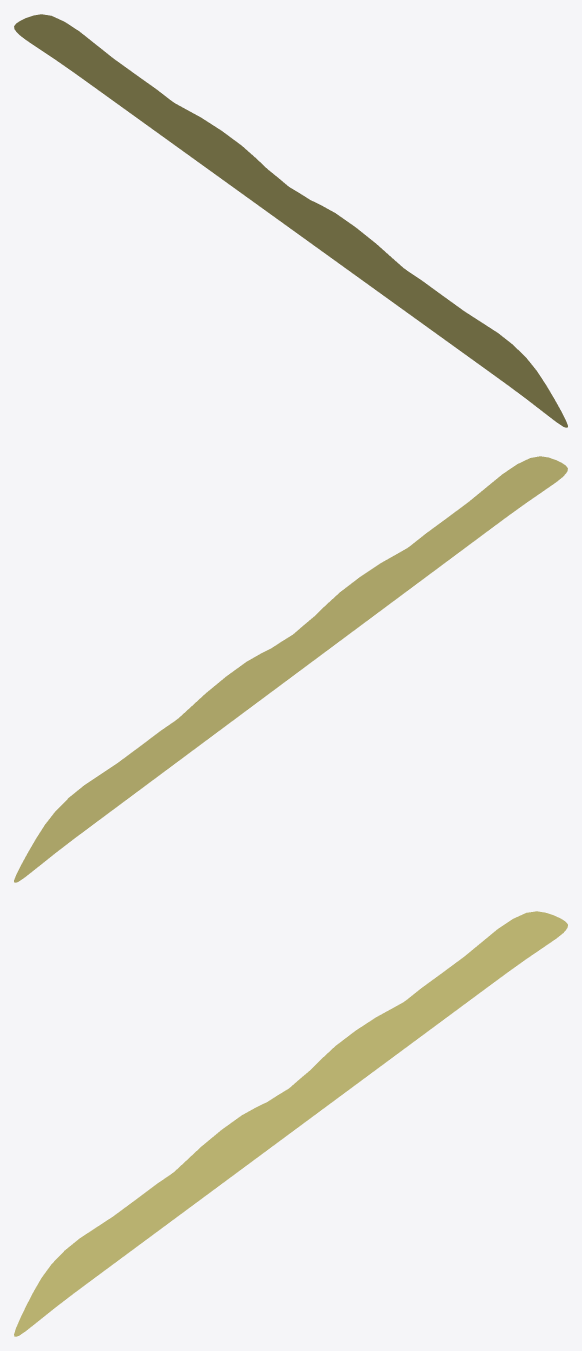
The model's file is decierto 2.fbx.
3 views of the same model, one above another, from view 1: azimuth 30°, elevation 25°; view 2: azimuth 150°, elevation 25°; view 3: azimuth 330°, elevation 25° (orthographic). The views are drawn at different scales.
Parts seen in each view (by area): view 1: Decierto 2; view 2: Decierto 2; view 3: Decierto 2.
Part boxes in pixels (box(x1,y1,x2,y2)): Decierto 2: box(14, 14, 567, 427); Decierto 2: box(14, 456, 567, 882); Decierto 2: box(14, 911, 567, 1336).
Size of the model in its own units: 20 by 140 by 2602.
